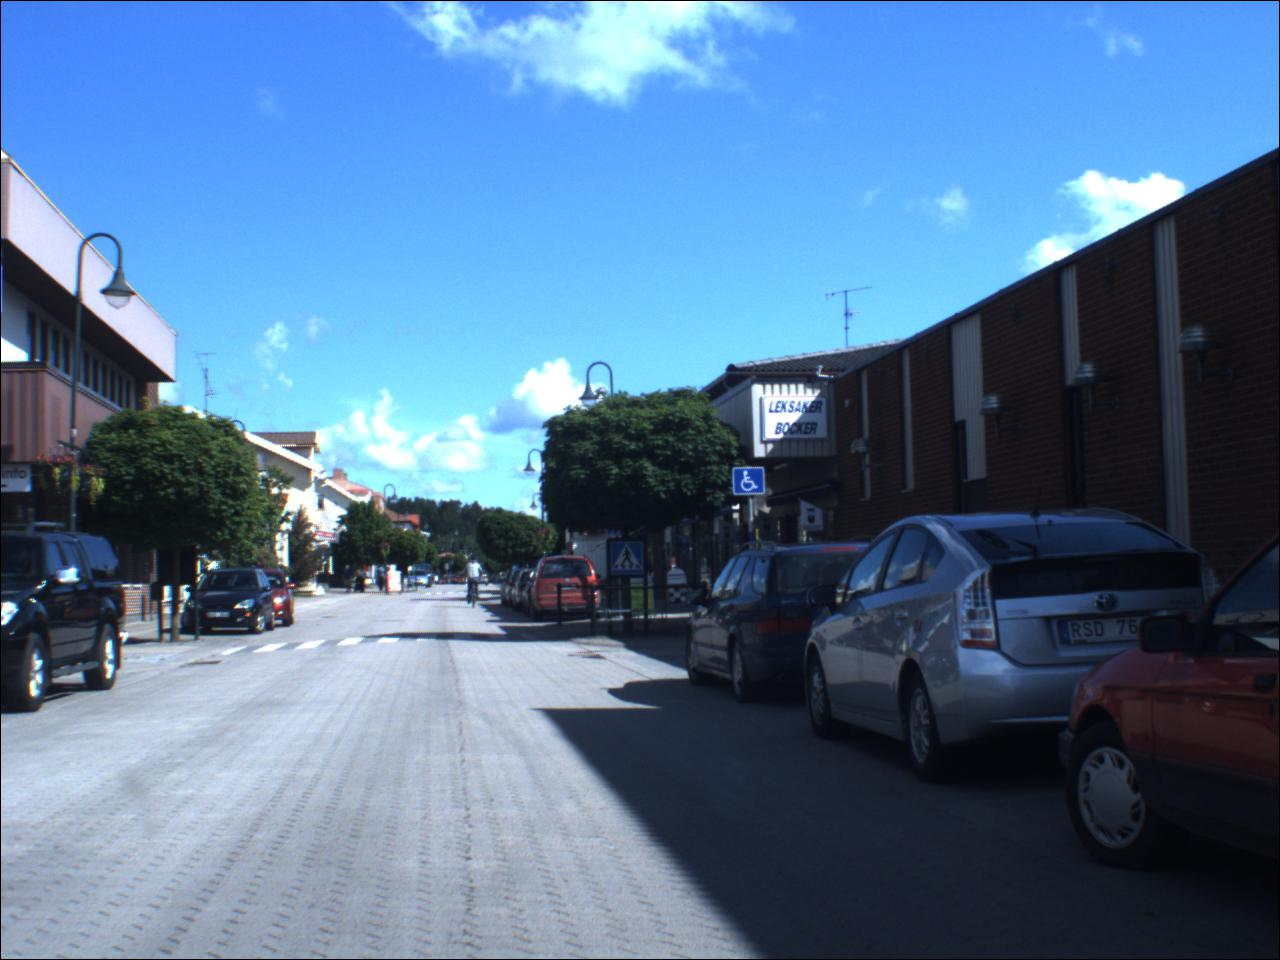PEDESTRIAN_CROSSING: (609, 542, 649, 578)
